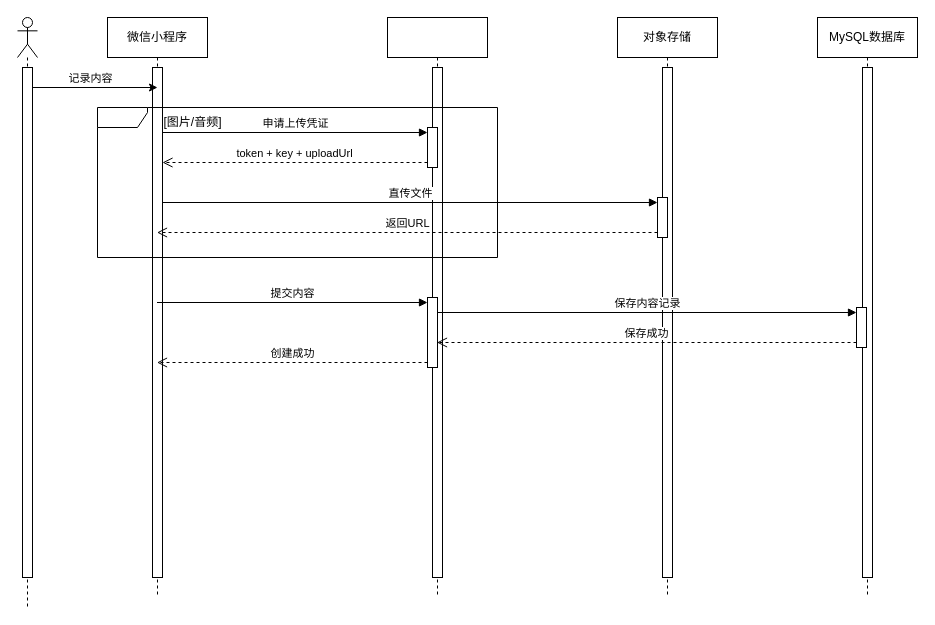
Some shapes in this 935 by 625 pixel diagram are drawn without their labels. The centre of each missing label's shape, as x and y in pixels:
"alt" goes at (x=297, y=182).
"后端服务" goes at (x=437, y=307).
